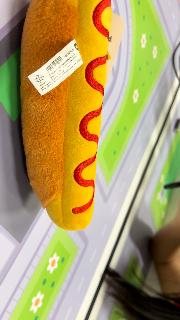hotdog: (19, 1, 113, 231)
